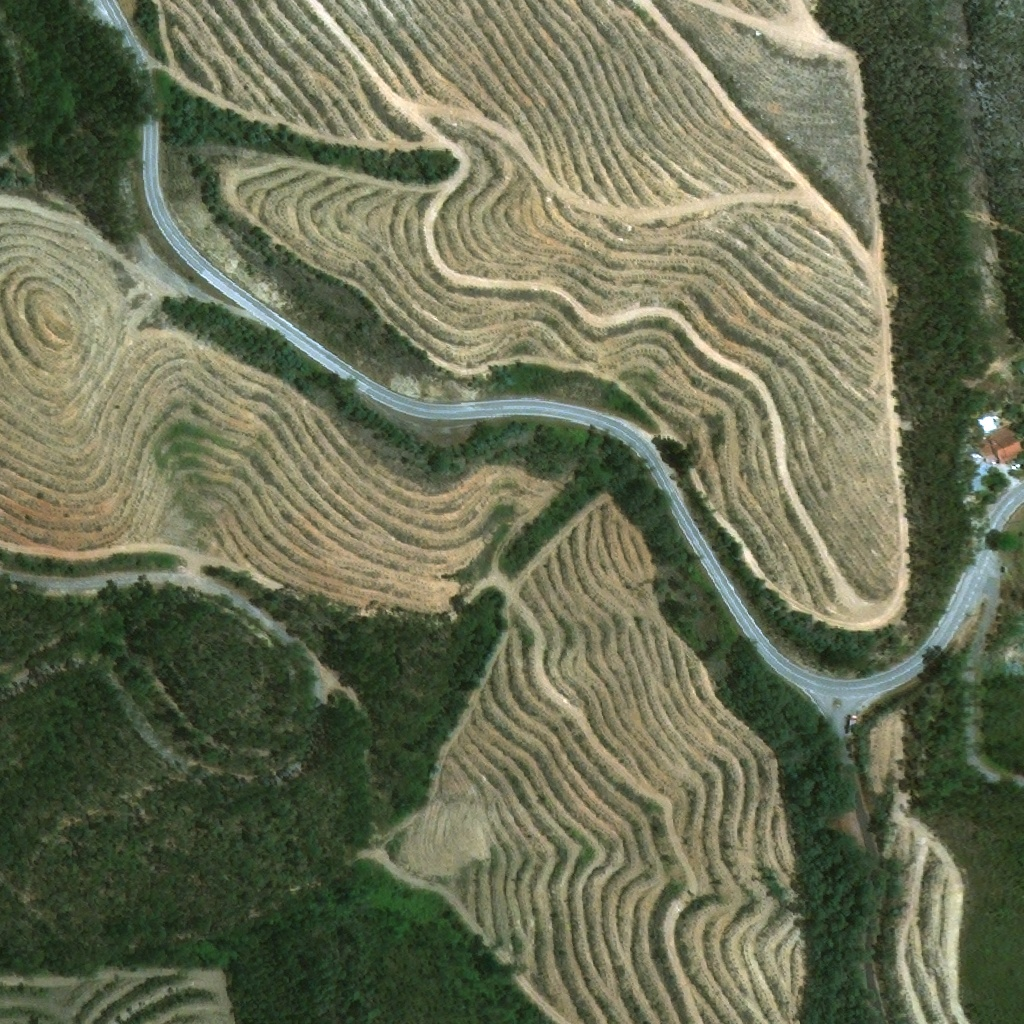0 no-damage: (977, 419, 1023, 462), (965, 460, 996, 491)
